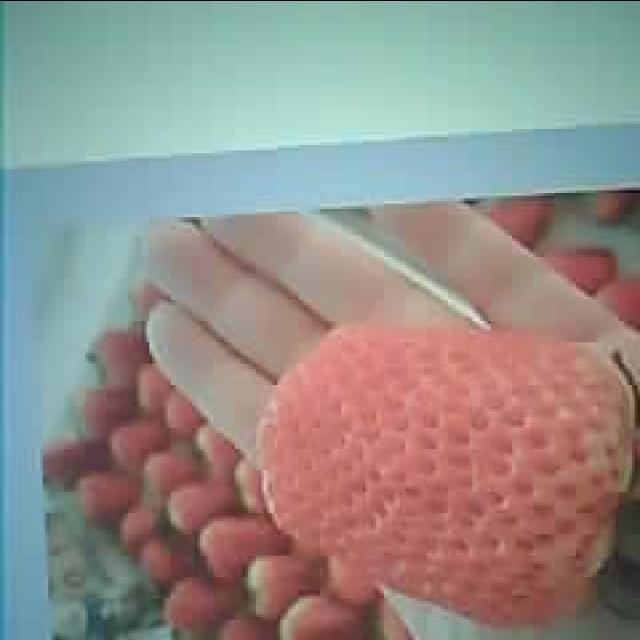ripe: (263, 326, 633, 620)
